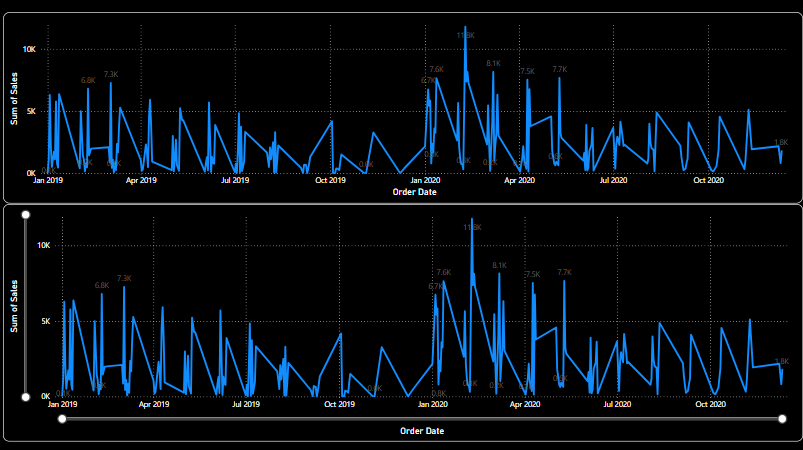

The page's visual inventory and layout, read from the dashboard file:
{"tool":"powerbi","page":{"name":"Page 2","canvas":[1280,720],"ordinal":1},"visuals":[{"type":"lineChart","fields":{"Y":["Sum(SuperStore_Sales_Dataset.Sales)"],"Category":["SuperStore_Sales_Dataset.Order Date"]},"box":[10,24,1270,304],"z":0},{"type":"lineChart","fields":{"Y":["Sum(SuperStore_Sales_Dataset.Sales)"],"Category":["SuperStore_Sales_Dataset.Order Date"]},"box":[10,328.3,1270,376.7],"z":1000}]}

Visuals, with their boxes in screenshot pixels (x1, y1, x2, y2), scaled from the page's 1280x720 canvas onto the 803x450 screenshot:
lineChart - Sum(SuperStore_Sales_Dataset.Sales) x SuperStore_Sales_Dataset.Order Date: x1=6, y1=15, x2=802, y2=205
lineChart - Sum(SuperStore_Sales_Dataset.Sales) x SuperStore_Sales_Dataset.Order Date: x1=6, y1=205, x2=802, y2=441
